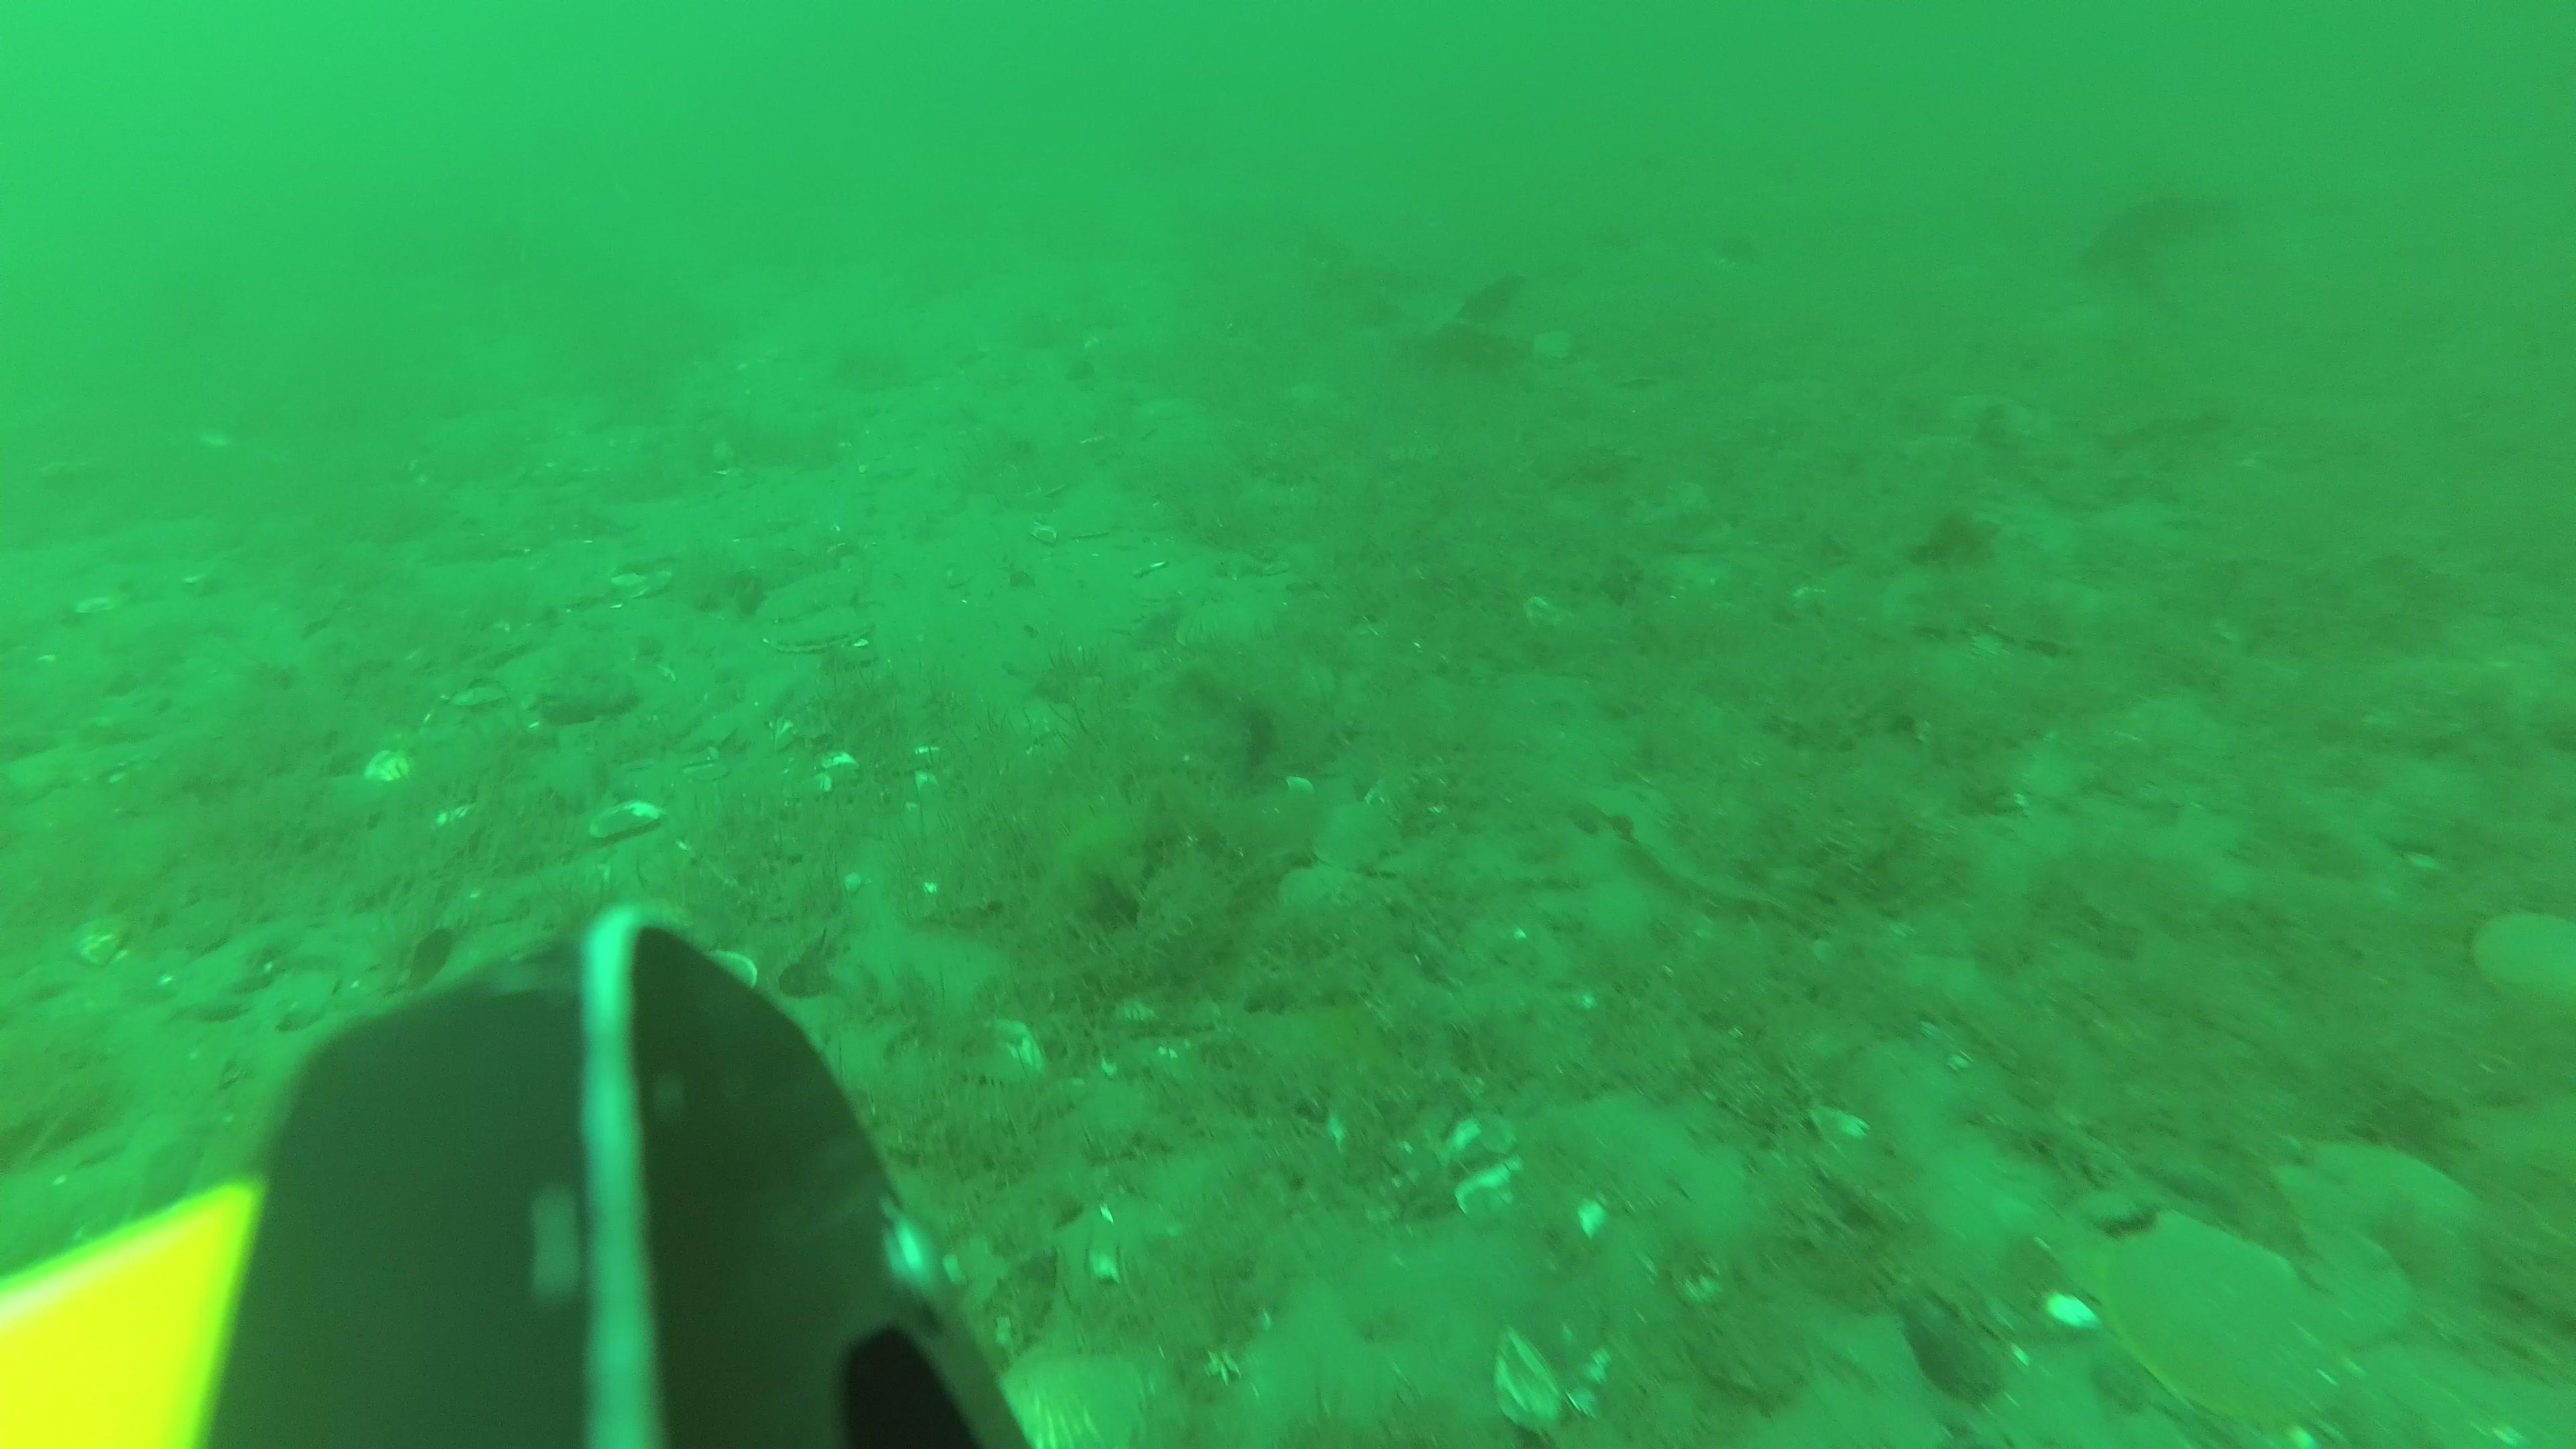scallop: (2105, 1210, 2300, 1419), (987, 1325, 1185, 1449), (2473, 904, 2576, 1012), (1168, 591, 1284, 649), (1315, 801, 1403, 870), (775, 610, 874, 655)
